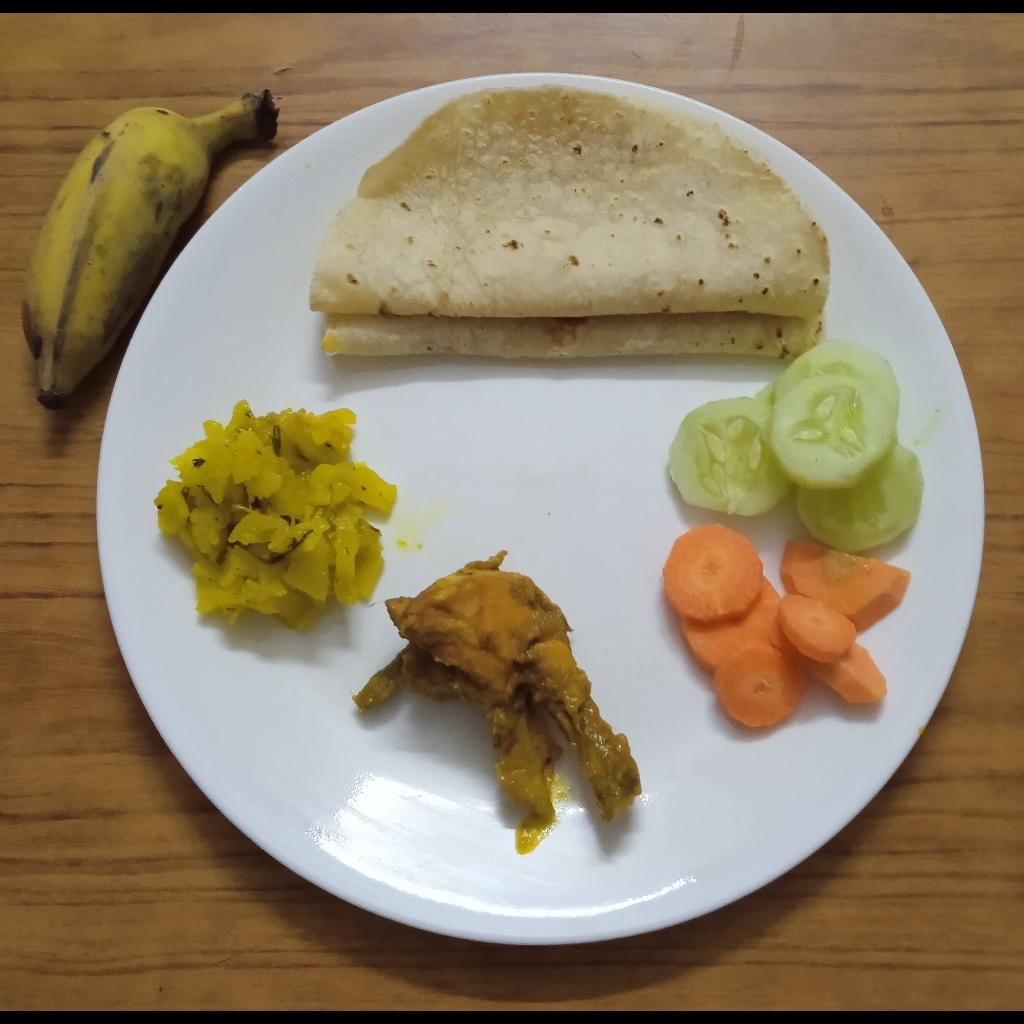banana: (20, 90, 280, 411)
cabbage: (154, 399, 397, 632)
carrot: (661, 524, 911, 726)
chicken: (353, 550, 642, 819)
cucumber: (669, 340, 927, 555)
ruti: (310, 83, 831, 359)
